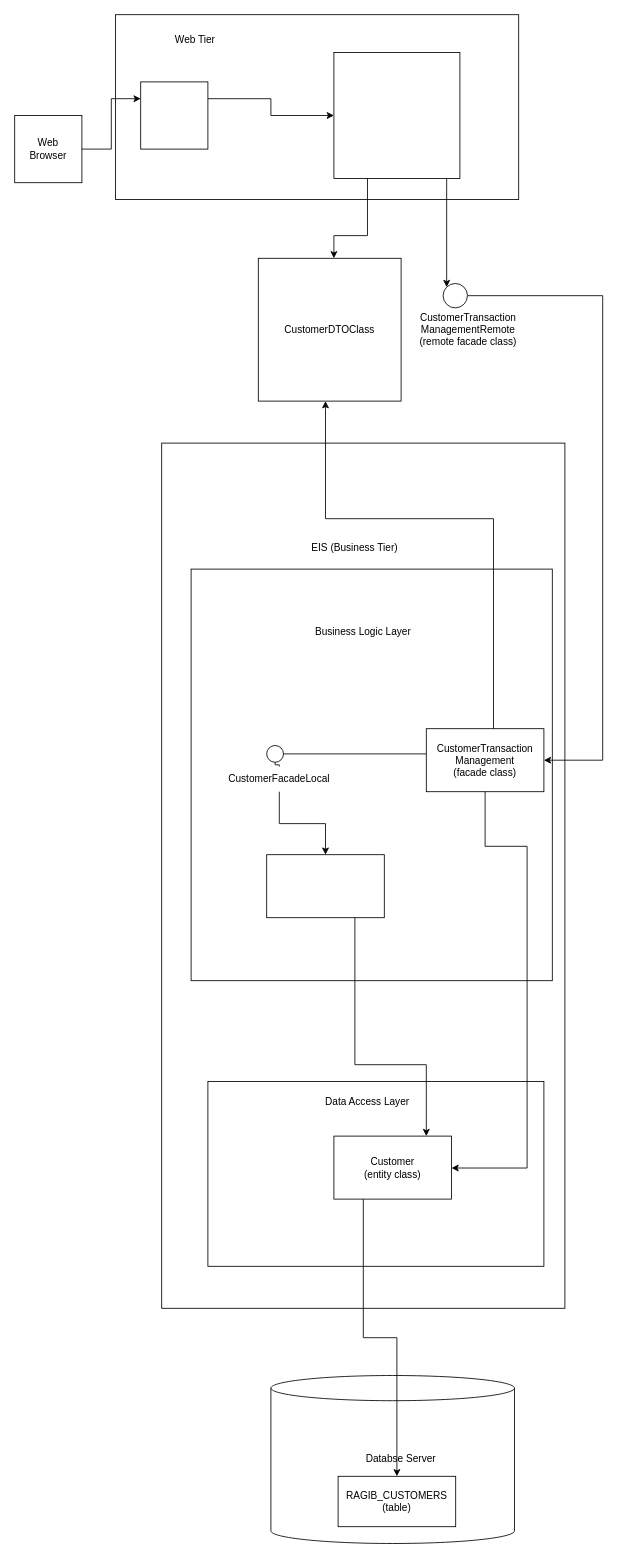
The diagram is 624 pixels wide and 1558 high, and some of its shapes have lost their labels. The centre of each missing label's shape, as x and y in pixels:
CustomerFacade: (x=325, y=886)
MyCustomerManagedBean: (x=396, y=115)
webpages: (x=174, y=115)
